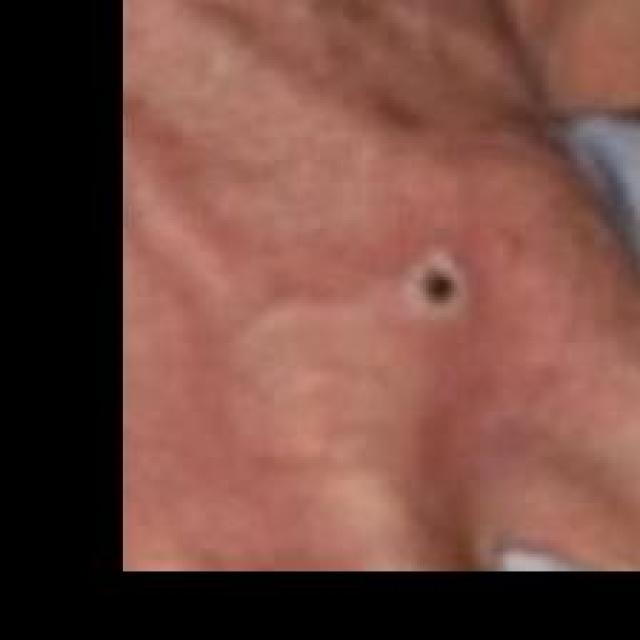monkeypox: (173, 123, 593, 530)
